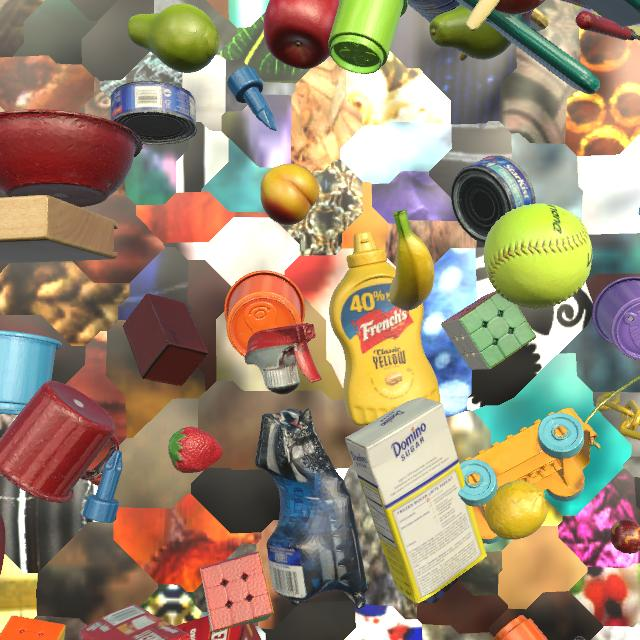ycb_002_master_chef_can: (408, 0, 460, 23)
ycb_003_cracker_box: (81, 603, 191, 640), (176, 616, 262, 640), (561, 0, 591, 10)
ycb_004_sugar_box: (345, 397, 487, 603)
ycb_006_mustard_bottle: (329, 231, 440, 425)
ycb_007_tuna_fish_can: (451, 155, 536, 244), (110, 81, 197, 145)
ycb_011_banana: (389, 210, 435, 311)
ycb_012_strawberry: (168, 427, 223, 473)
ycb_013_apple: (263, 0, 340, 69)
ycb_014_lemon: (485, 480, 547, 540)
ycb_015_peach: (260, 164, 320, 225)
ycb_016_pear: (127, 3, 220, 73), (429, 4, 512, 60)
